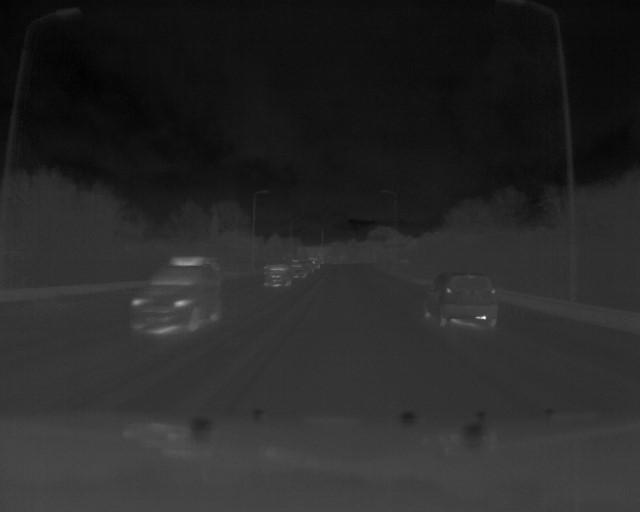car: (128, 265, 226, 337), (423, 273, 501, 333), (264, 259, 297, 290)
